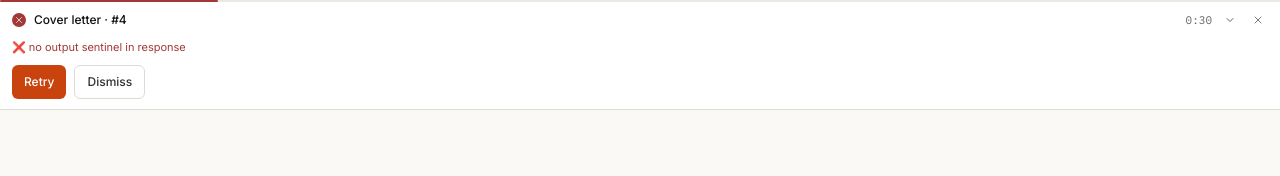
Test: ChatJobsSlot › shows a clean error cause and a sanitized log pane on failure
Check: the text "❌ no output sentinel in response" is shown, box [12,40,186,54]
What coordinates should you click on to do the following:
click the button named "Show logs"
I would click on:
 (1230, 20)
Its box is [1220,10,1240,30].
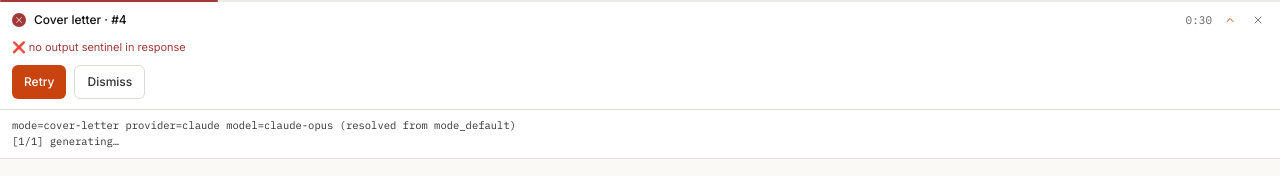
Check: the text "mode=cover-letter" is shown, box [12,118,516,148]
Check: the text "generating" is shown, box [12,118,516,148]
